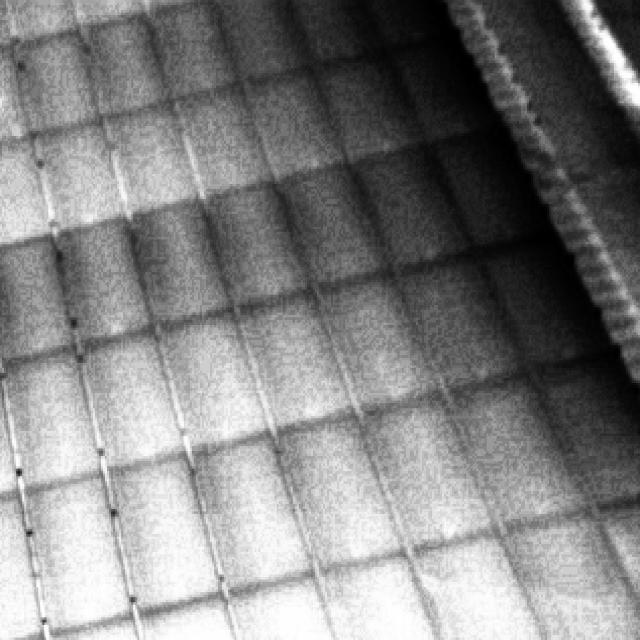PV-modules: (12, 468, 139, 640), (112, 444, 218, 626), (66, 326, 186, 480), (497, 229, 612, 378), (0, 338, 109, 493), (203, 430, 294, 604), (535, 360, 640, 509), (409, 252, 511, 400), (173, 293, 264, 458), (529, 504, 638, 640), (49, 216, 160, 349), (384, 384, 476, 540), (366, 138, 468, 278), (318, 283, 416, 424), (316, 41, 411, 185), (292, 157, 386, 300), (400, 18, 490, 160), (212, 176, 303, 310), (424, 531, 531, 640), (250, 292, 333, 432), (486, 378, 564, 526), (252, 58, 335, 195), (455, 121, 536, 253), (138, 195, 216, 328), (305, 432, 385, 560), (0, 240, 81, 366), (44, 110, 122, 238), (114, 96, 187, 218), (0, 491, 57, 640), (180, 78, 251, 197), (87, 6, 156, 126), (149, 0, 229, 96), (20, 27, 83, 146), (343, 562, 432, 640), (228, 0, 322, 71), (246, 572, 339, 640), (308, 0, 394, 58), (0, 141, 48, 244), (143, 602, 244, 640), (13, 0, 94, 41), (0, 363, 22, 509), (382, 0, 462, 37), (0, 43, 18, 159), (53, 627, 154, 640), (0, 0, 28, 45)
